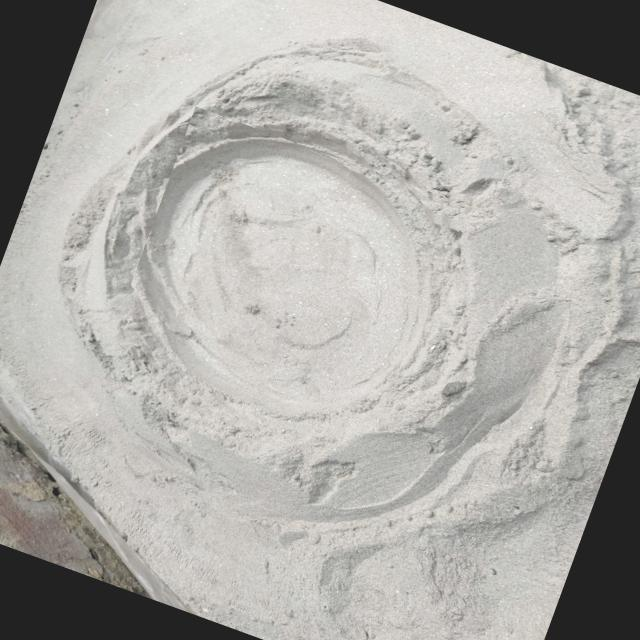C40: (143, 138, 421, 415)
